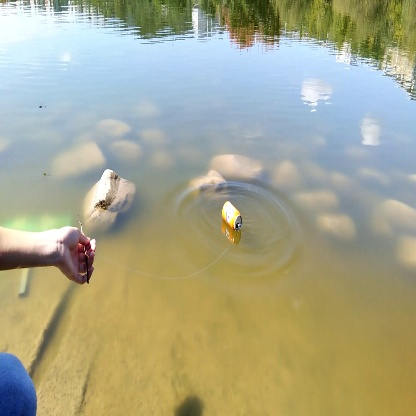bottle: (218, 194, 245, 234)
